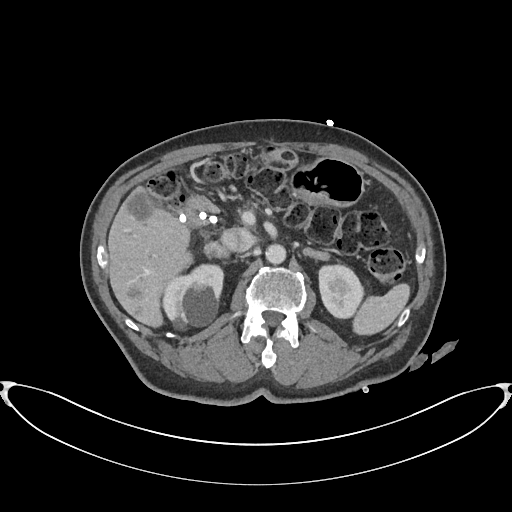Lesion: (187, 278, 214, 294)
